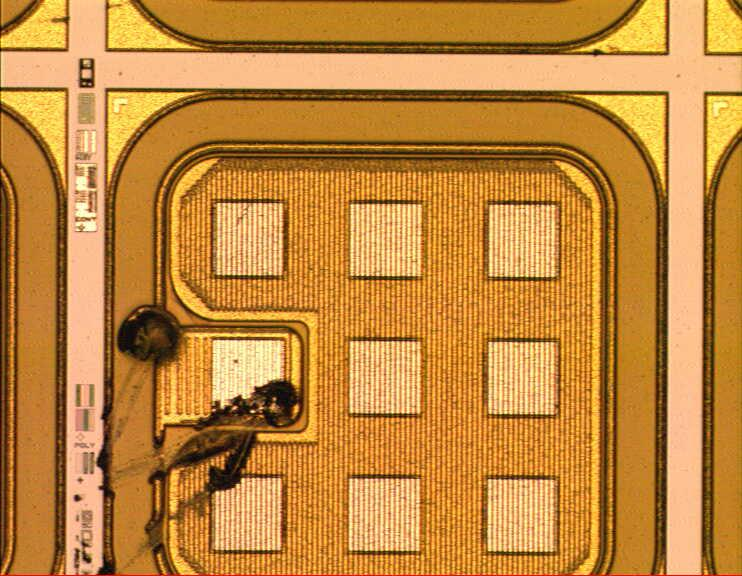SCRATCH: (93, 298, 302, 576)
